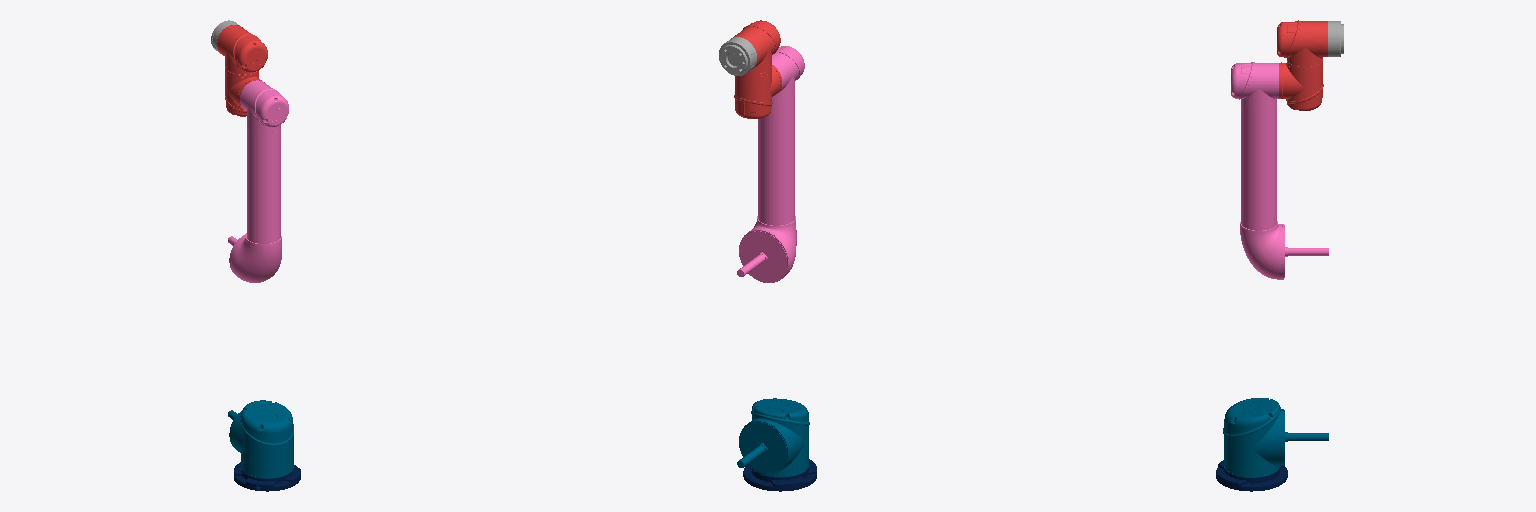
robot.urdf — UR5:
<robot name="UR5">

<material name="silver">
  <color rgba="0.7 0.700 0.700 1.000"/>
</material>

<material name="green">
  <color rgba="0.000 0.411 0.537 1.000"/>
</material>

<material name="yellow">
  <color rgba="1.000 0.956 0.333 1.000"/>
</material>

<material name="orange">
  <color rgba="1.000 0.500 0.780 1.000"/>
</material>

<material name="red">
  <color rgba="0.933 0.306 0.306 1.000"/>
</material>

<material name="blue">
  <color rgba="0.062 0.172 0.341 1.000"/>
</material>

<link name="base_link">
  <inertial>
    <origin xyz="-0.007549358471101786 -0.00044481752080097214 0.006224687181569533" rpy="0 0 0"/>
    <mass value="3.2660399079618894"/>
    <inertia ixx="0.004349" iyy="0.004349" izz="0.007161" ixy="0.000137" iyz="4e-06" ixz="4e-06"/>
  </inertial>
  <visual>
    <origin xyz="0 0 0" rpy="0 0 0"/>
    <geometry>
      <mesh filename="../meshes/base_link.stl" scale="0.001 0.001 0.001"/>
    </geometry>
    <material name="blue"/>
  </visual>
  <collision>
    <origin xyz="0 0 0" rpy="0 0 0"/>
    <geometry>
      <mesh filename="../meshes/base_link.stl" scale="0.001 0.001 0.001"/>
    </geometry>
  </collision>
</link>

<link name="link1_1">
  <inertial>
    <origin xyz="-5.677632932297658e-06 0.012421774511499051 0.06184624954036466" rpy="0 0 0"/>
    <mass value="12.348320926723845"/>
    <inertia ixx="0.031286" iyy="0.026105" izz="0.026746" ixy="2e-06" iyz="-0.001786" ixz="5e-06"/>
  </inertial>
  <visual>
    <origin xyz="0.007104 -0.0 -0.015596" rpy="0 0 0"/>
    <geometry>
      <mesh filename="../meshes/link1_1.stl" scale="0.001 0.001 0.001"/>
    </geometry>
    <material name="green"/>
  </visual>
  <collision>
    <origin xyz="0.007104 -0.0 -0.015596" rpy="0 0 0"/>
    <geometry>
      <mesh filename="../meshes/link1_1.stl" scale="0.001 0.001 0.001"/>
    </geometry>
  </collision>
</link>

<link name="link2_1">
  <inertial>
    <origin xyz="2.4181453488116705e-07 0.06338880482793494 0.21249980845685934" rpy="0 0 0"/>
    <mass value="37.34376171658265"/>
    <inertia ixx="1.145621" iyy="1.136367" izz="0.064383" ixy="-0.0" iyz="-0.0" ixz="3.5e-05"/>
  </inertial>
  <visual>
    <origin xyz="0.007104 -0.0688 -0.081996" rpy="0 0 0"/>
    <geometry>
      <mesh filename="../meshes/link2_1.stl" scale="0.001 0.001 0.001"/>
    </geometry>
    <material name="yellow"/>
  </visual>
  <collision>
    <origin xyz="0.007104 -0.0688 -0.081996" rpy="0 0 0"/>
    <geometry>
      <mesh filename="../meshes/link2_1.stl" scale="0.001 0.001 0.001"/>
    </geometry>
  </collision>
</link>

<link name="link3_1">
  <inertial>
    <origin xyz="2.008437861999654e-06 -0.048256417822088185 0.17546203407482153" rpy="0 0 0"/>
    <mass value="21.232375738974373"/>
    <inertia ixx="0.47027" iyy="0.465993" izz="0.02313" ixy="1e-06" iyz="0.029479" ixz="-1e-05"/>
  </inertial>
  <visual>
    <origin xyz="0.007104 -0.0688 -0.506996" rpy="0 0 0"/>
    <geometry>
      <mesh filename="../meshes/link3_1.stl" scale="0.001 0.001 0.001"/>
    </geometry>
    <material name="orange"/>
  </visual>
  <collision>
    <origin xyz="0.007104 -0.0688 -0.506996" rpy="0 0 0"/>
    <geometry>
      <mesh filename="../meshes/link3_1.stl" scale="0.001 0.001 0.001"/>
    </geometry>
  </collision>
</link>

<link name="link4_1">
  <inertial>
    <origin xyz="3.26983679727862e-05 0.04240825548274439 -0.005294016990126438" rpy="0 0 0"/>
    <mass value="4.397380123742158"/>
    <inertia ixx="0.005914" iyy="0.004558" izz="0.004495" ixy="-1e-06" iyz="0.000206" ixz="5e-06"/>
  </inertial>
  <visual>
    <origin xyz="0.007104 -0.0568 -0.899246" rpy="0 0 0"/>
    <geometry>
      <mesh filename="../meshes/link4_1.stl" scale="0.001 0.001 0.001"/>
    </geometry>
    <material name="red"/>
  </visual>
  <collision>
    <origin xyz="0.007104 -0.0568 -0.899246" rpy="0 0 0"/>
    <geometry>
      <mesh filename="../meshes/link4_1.stl" scale="0.001 0.001 0.001"/>
    </geometry>
  </collision>
</link>

<link name="link5_1">
  <inertial>
    <origin xyz="0.00020069625926429253 -0.0023714122839632312 0.04320707320429129" rpy="0 0 0"/>
    <mass value="4.669599447910908"/>
    <inertia ixx="0.00669" iyy="0.004729" izz="0.005306" ixy="3.3e-05" iyz="6.7e-05" ixz="-1.4e-05"/>
  </inertial>
  <visual>
    <origin xyz="0.007104 -0.11 -0.940796" rpy="0 0 0"/>
    <geometry>
      <mesh filename="../meshes/link5_1.stl" scale="0.001 0.001 0.001"/>
    </geometry>
    <material name="red"/>
  </visual>
  <collision>
    <origin xyz="0.007104 -0.11 -0.940796" rpy="0 0 0"/>
    <geometry>
      <mesh filename="../meshes/link5_1.stl" scale="0.001 0.001 0.001"/>
    </geometry>
  </collision>
</link>

<link name="link6_1">
  <inertial>
    <origin xyz="0.00018139234823048075 0.01497790816307909 -2.941478464135727e-07" rpy="0 0 0"/>
    <mass value="1.0216493606692563"/>
    <inertia ixx="0.000437" iyy="0.000708" izz="0.000432" ixy="-1e-06" iyz="0.0" ixz="-0.0"/>
  </inertial>
  <visual>
    <origin xyz="0.007104 -0.1585 -0.994166" rpy="0 0 0"/>
    <geometry>
      <mesh filename="../meshes/link6_1.stl" scale="0.001 0.001 0.001"/>
    </geometry>
    <material name="silver"/>
  </visual>
  <collision>
    <origin xyz="0.007104 -0.1585 -0.994166" rpy="0 0 0"/>
    <geometry>
      <mesh filename="../meshes/link6_1.stl" scale="0.001 0.001 0.001"/>
    </geometry>
  </collision>
</link>

<joint name="joint1" type="continuous">
  <origin xyz="-0.007104 0.0 0.015596" rpy="0 0 0"/>
  <parent link="base_link"/>
  <child link="link1_1"/>
  <axis xyz="-0.0 0.0 1.0"/>
</joint>

<joint name="joint2" type="continuous">
  <origin xyz="0.0 0.0688 0.0664" rpy="0 0 0"/>
  <parent link="link1_1"/>
  <child link="link2_1"/>
  <axis xyz="0.0 1.0 0.0"/>
</joint>

<joint name="joint3" type="continuous">
  <origin xyz="0.0 0.0 0.425" rpy="0 0 0"/>
  <parent link="link2_1"/>
  <child link="link3_1"/>
  <axis xyz="0.0 -1.0 -0.0"/>
</joint>

<joint name="joint4" type="continuous">
  <origin xyz="0.0 -0.012 0.39225" rpy="0 0 0"/>
  <parent link="link3_1"/>
  <child link="link4_1"/>
  <axis xyz="0.0 1.0 0.0"/>
</joint>

<joint name="joint5" type="continuous">
  <origin xyz="0.0 0.0532 0.04155" rpy="0 0 0"/>
  <parent link="link4_1"/>
  <child link="link5_1"/>
  <axis xyz="0.0 0.0 1.0"/>
</joint>

<joint name="joint6" type="continuous">
  <origin xyz="0.0 0.0485 0.05337" rpy="0 0 0"/>
  <parent link="link5_1"/>
  <child link="link6_1"/>
  <axis xyz="0.0 1.0 0.0"/>
</joint>

</robot>

--- What the picture shows (computed from the rendered views, not written in the file) ---
3 views of the same robot in one strip: view 1: azimuth 30°, elevation 25°; view 2: azimuth 150°, elevation 25°; view 3: azimuth 270°, elevation 25° (orthographic).
Robot: UR5 — 7 links, 6 joints (6 continuous); root link base_link; default pose: every joint at zero.
Links seen in each view (by area): view 1: link3_1, link1_1, link5_1, base_link, link4_1; view 2: link3_1, link1_1, link4_1, link5_1, base_link, link6_1; view 3: link3_1, link1_1, link5_1, link4_1, base_link, link6_1.
Boxes of the visible links, x1,y1,x2,y2 form: link3_1: (228,80,288,282); link1_1: (228,400,293,478); link5_1: (217,25,267,76); base_link: (234,462,300,491); link4_1: (225,71,264,116); link3_1: (737,46,804,282); link1_1: (737,398,809,476); link4_1: (734,65,781,118); link5_1: (731,20,780,76); base_link: (743,459,816,491); link6_1: (719,37,756,75); link3_1: (1231,62,1328,279); link1_1: (1223,398,1328,477); link5_1: (1277,20,1327,69); link4_1: (1279,62,1323,110); base_link: (1216,460,1287,491); link6_1: (1328,21,1343,56).
Bounding box of the posed robot: 0.149 × 0.266 × 1.04 m (x, y, z).
6 mesh visuals loaded from 7 distinct referenced files (6 binary STL); not drawn: 1 (reference not matched to a file when rendering).